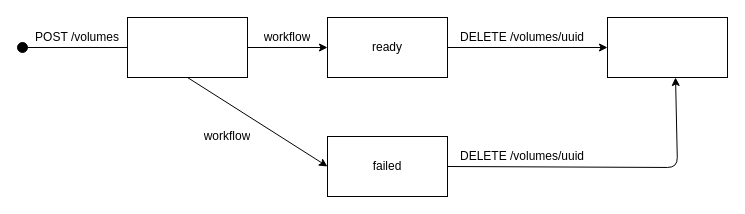
Some shapes in this 745 by 214 pixel diagram are drawn without their labels. The shapes that lost their labels are listed below. From the top down, each one's box as (x1, y1, x2, y2) in pixels, then its label:
(126, 16, 248, 78): creating
(606, 16, 728, 78): Deleted
